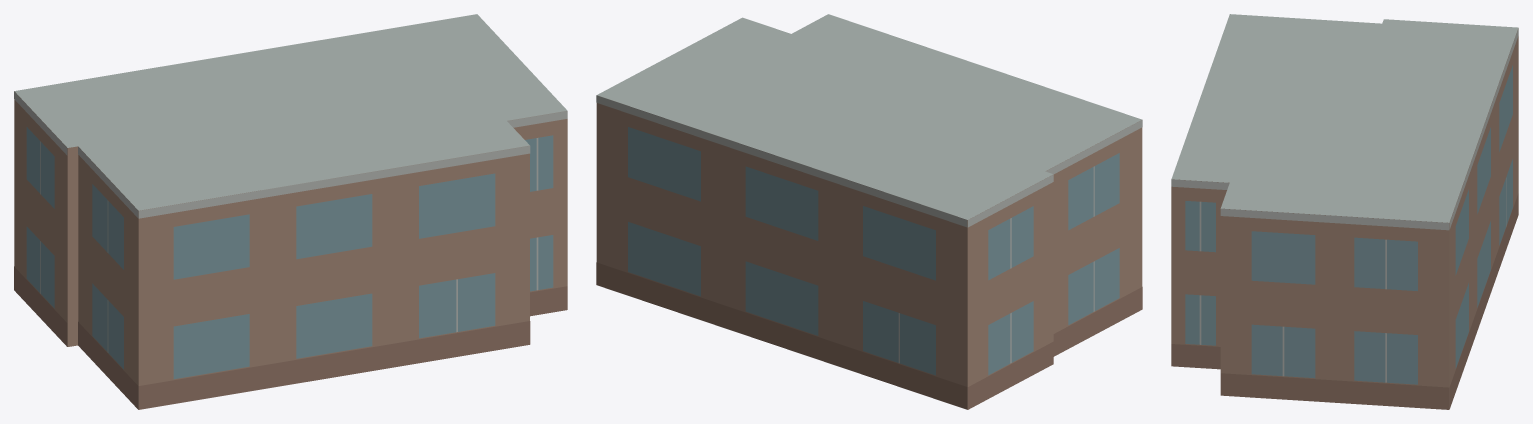
File: survey-upis-32798175.glb
The picture shows the model from 3 angles, left to right: view 1: azimuth 30°, elevation 25°; view 2: azimuth 150°, elevation 25°; view 3: azimuth 270°, elevation 25°; orthographic projection. The views are drawn at different scales.
Parts seen in each view (by area): view 1: survey-upis-32798175.tmp; view 2: survey-upis-32798175.tmp; view 3: survey-upis-32798175.tmp.
Boxes of the visible parts, x1,y1,x2,y2 form: survey-upis-32798175.tmp: (14,14,567,409); survey-upis-32798175.tmp: (596,14,1142,409); survey-upis-32798175.tmp: (1171,14,1518,409).
Size of the model in its own units: 14.62 by 6.1 by 10.28.
